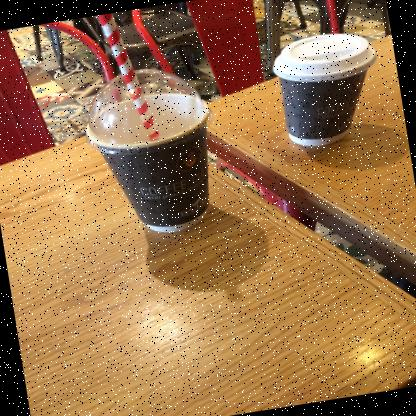Paper cup: (86, 92, 209, 231), (279, 68, 367, 145)
Paper straw: (97, 13, 160, 140)
Plastic lid: (85, 68, 213, 154), (273, 33, 377, 81)
